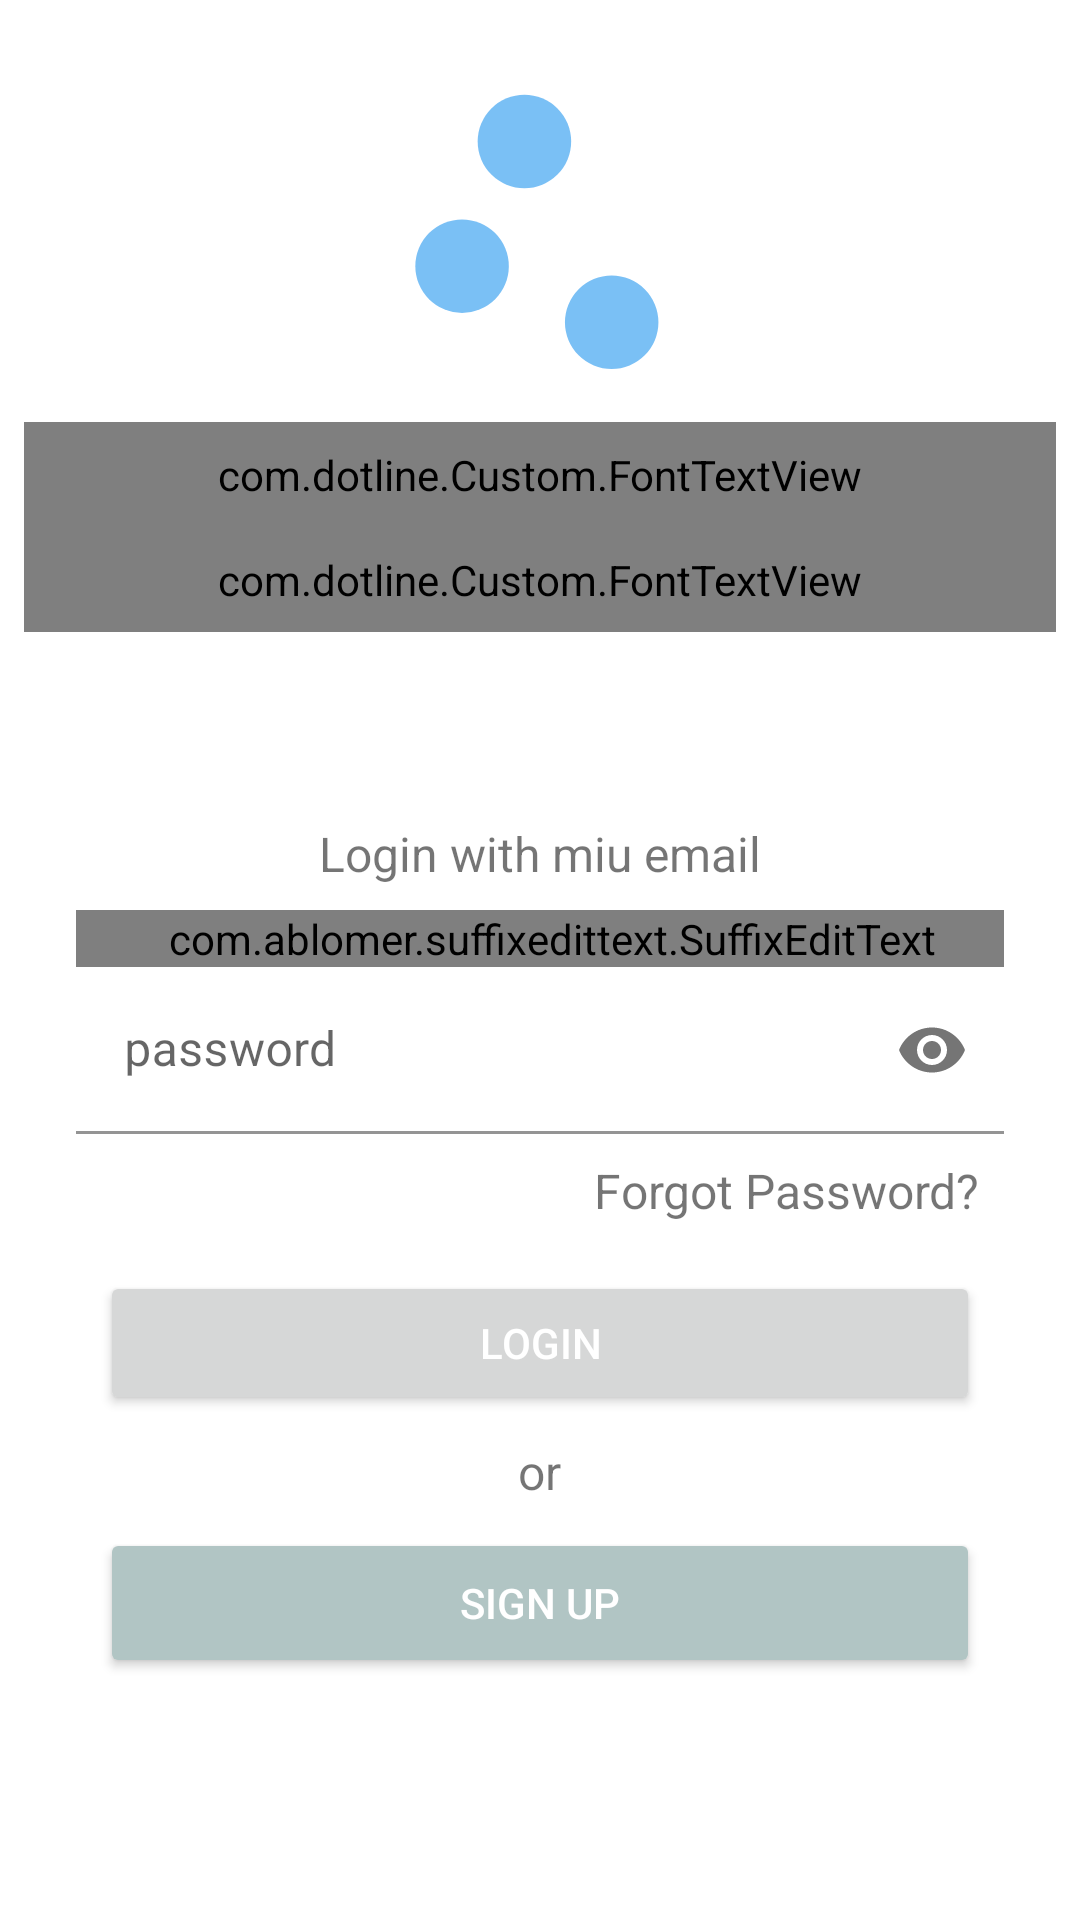

Where to tap for icons on this 1080x1920 app screen, as (x,y):
dot: (537,231)
